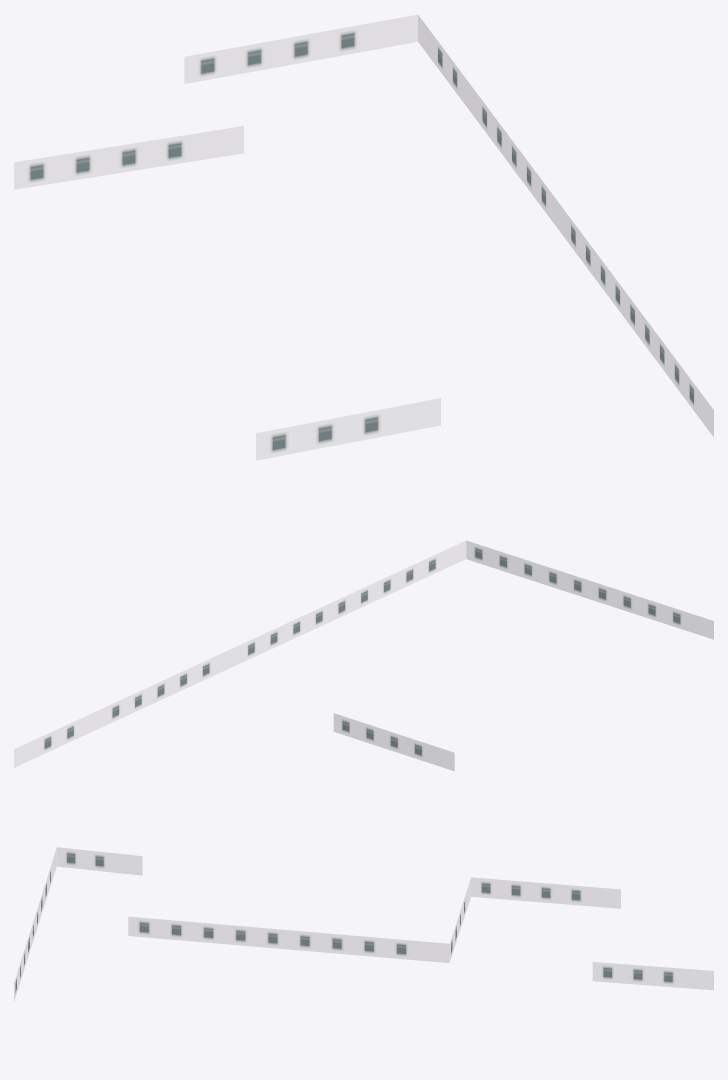
3 views of the same model, one above another, from view 1: azimuth 30°, elevation 25°; view 2: azimuth 150°, elevation 25°; view 3: azimuth 270°, elevation 25° (orthographic). The views are drawn at different scales.
Bounding box in the file's own units: 66 × 3 × 98.
Materials: 2 (2 with a texture image).
